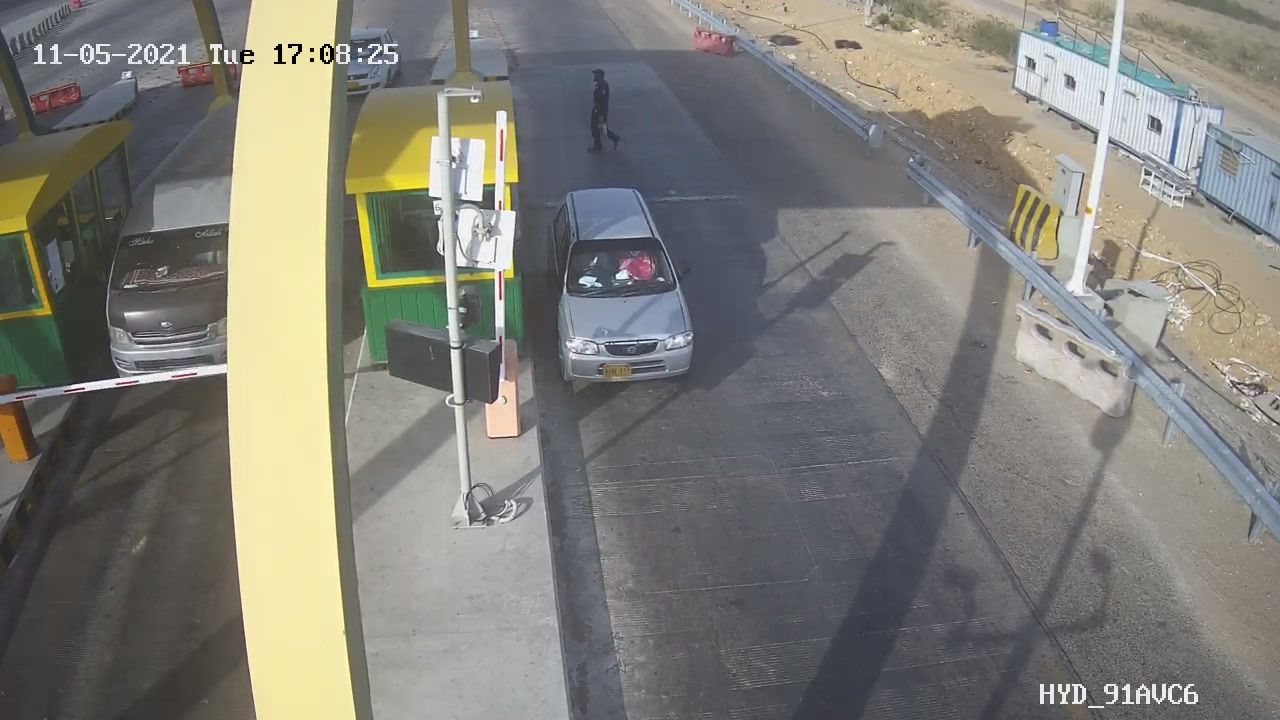F1: (526, 174, 725, 400)
